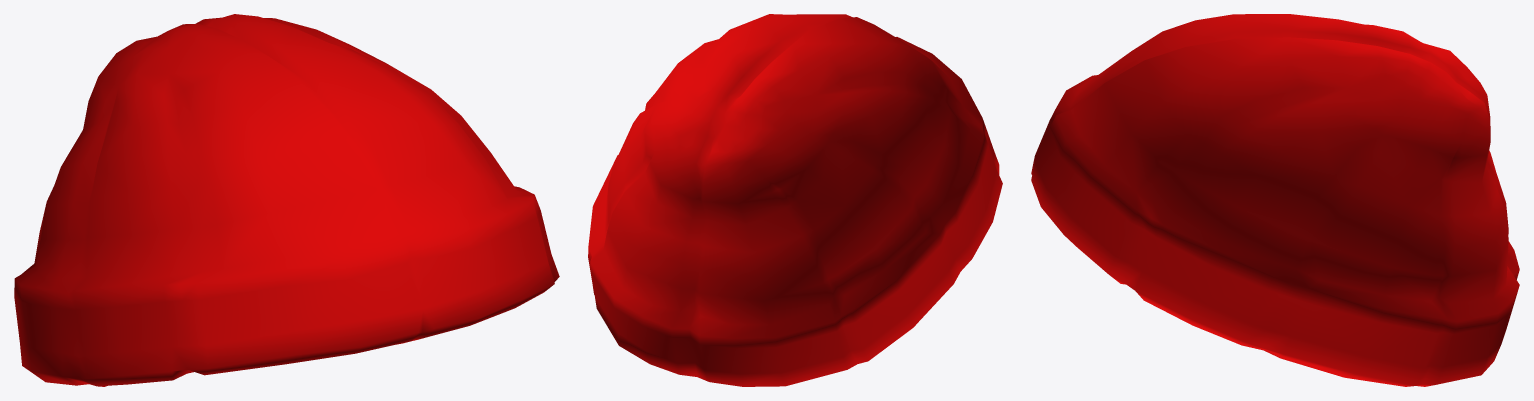
Rendered from Hat_Beanie.glb.
3 views of the same model, side by side, from view 1: azimuth 30°, elevation 25°; view 2: azimuth 150°, elevation 25°; view 3: azimuth 270°, elevation 25° (orthographic). The views are drawn at different scales.
Visible parts, largest first — view 1: Hat_Beanie; view 2: Hat_Beanie; view 3: Hat_Beanie.
Boxes of the visible parts, x1,y1,x2,y2 form: Hat_Beanie: (14,14,559,386); Hat_Beanie: (588,14,1002,386); Hat_Beanie: (1031,14,1519,386).
Size of the model in its own units: 0.265 by 0.2072 by 0.302.
